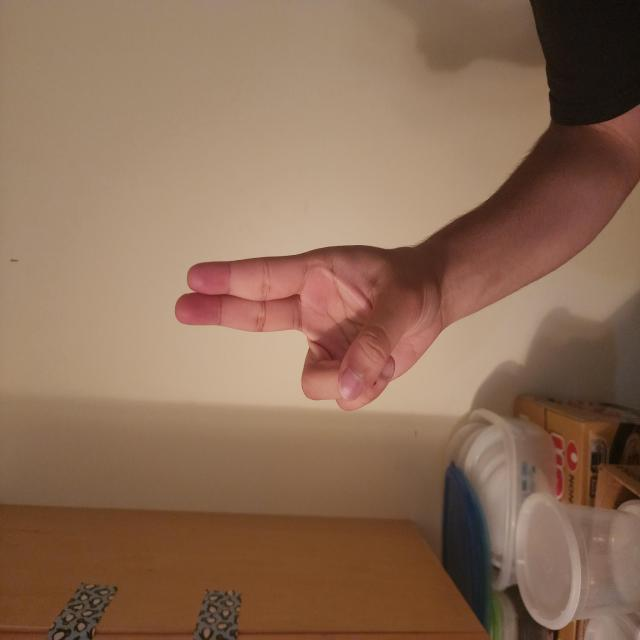U: (169, 225, 299, 588)
